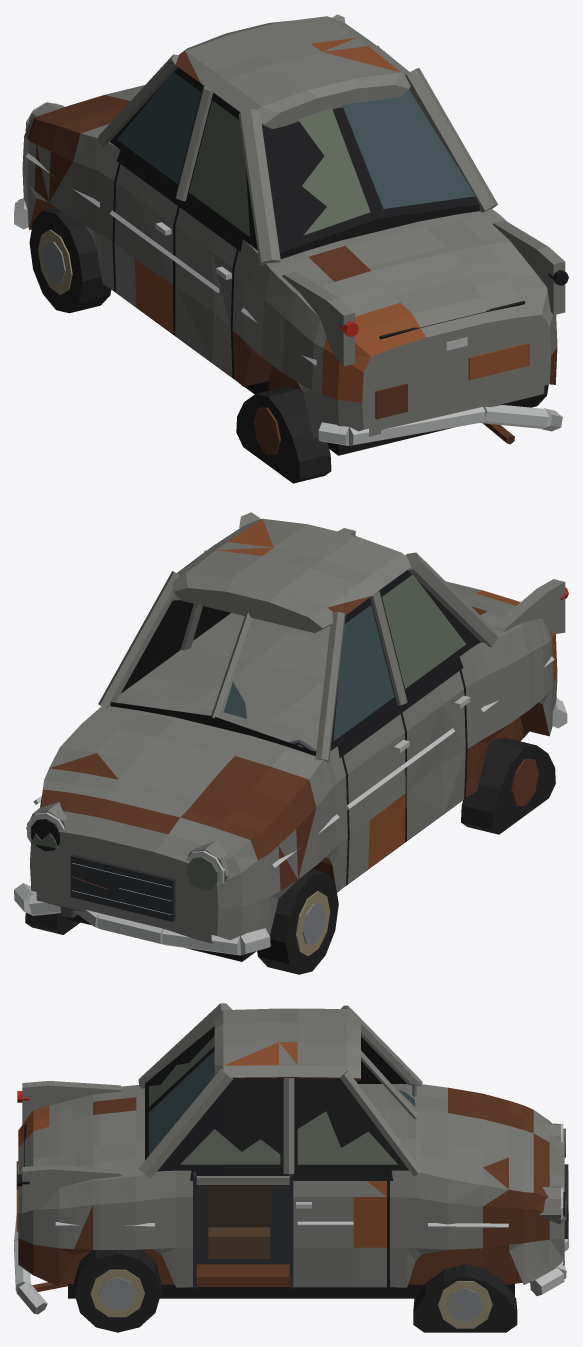
The model's file is car_sedan_grey.fbx.
The picture shows the model from 3 angles, top to bottom: view 1: azimuth 30°, elevation 25°; view 2: azimuth 150°, elevation 25°; view 3: azimuth 270°, elevation 25°; orthographic projection. The views are drawn at different scales.
Parts seen in each view (by area): view 1: car_sedan_grey; view 2: car_sedan_grey; view 3: car_sedan_grey.
Part boxes in pixels (left/top/right/bottom): car_sedan_grey: left=14, top=14, right=568, bottom=483; car_sedan_grey: left=14, top=512, right=568, bottom=974; car_sedan_grey: left=14, top=1003, right=568, bottom=1332.
Size of the model in its own units: 1.99 by 2.21 by 4.47.
